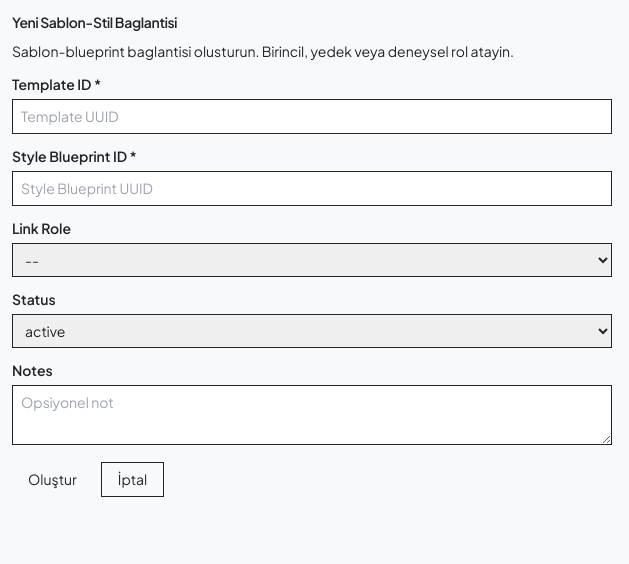
Test: TemplateStyleLink form smoke tests › shows template_id required error on empty submit
Click the button "Oluştur": point(52, 480) [12,462,93,497]
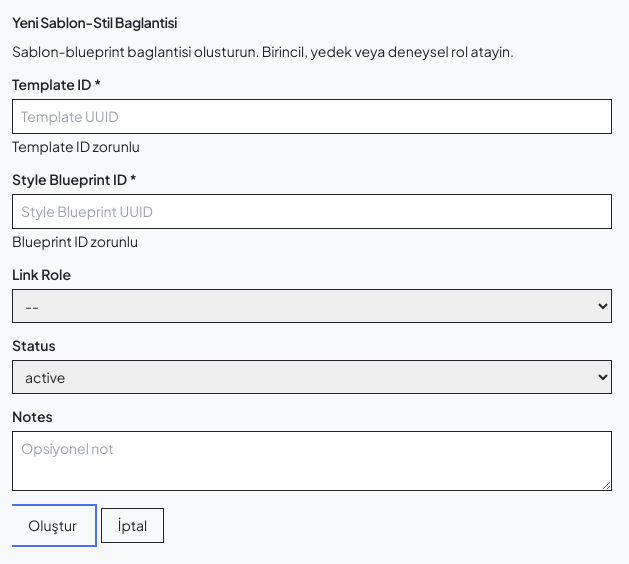
expect the text "Template ID zorunlu" is shown: met, box [12,137,140,155]
